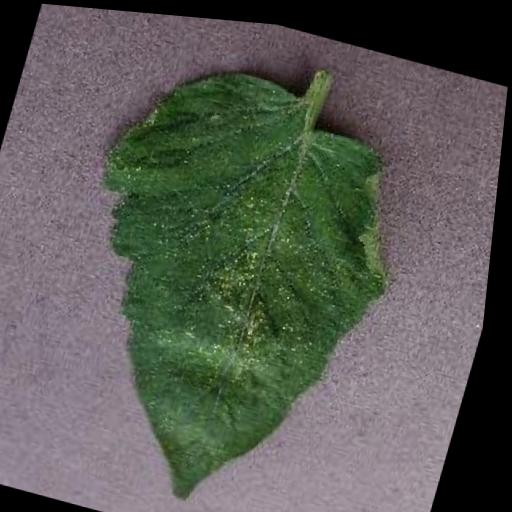Spider Mites: (24, 36, 434, 512)
